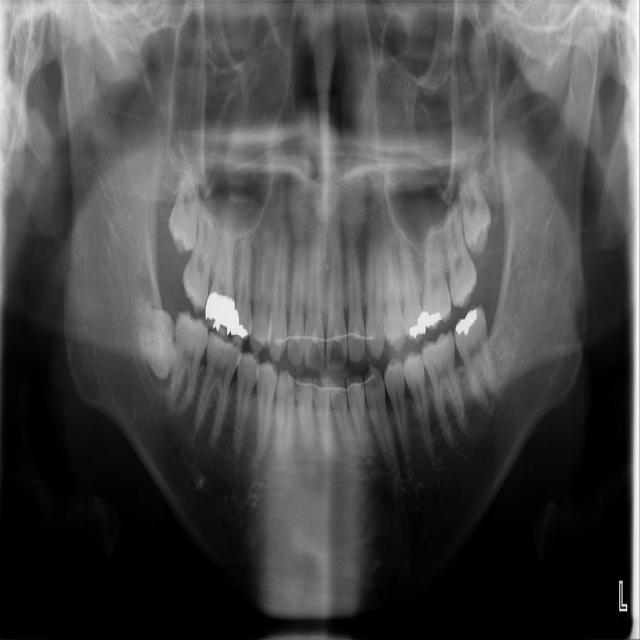3M ESPE Implant: (166, 149, 202, 258)
52: (199, 290, 240, 339), (454, 305, 486, 358), (422, 280, 452, 328), (401, 294, 427, 345), (229, 301, 255, 343)
73: (602, 564, 606, 574)
BioHorizons Implant: (440, 200, 481, 311)
BioLife Implant: (456, 163, 495, 257)
Blue Sky Bio Implant: (449, 302, 502, 413)
Caries: (178, 201, 222, 314)
Implant: (166, 308, 211, 418)
Keystone Dental Implant: (133, 297, 177, 380)
